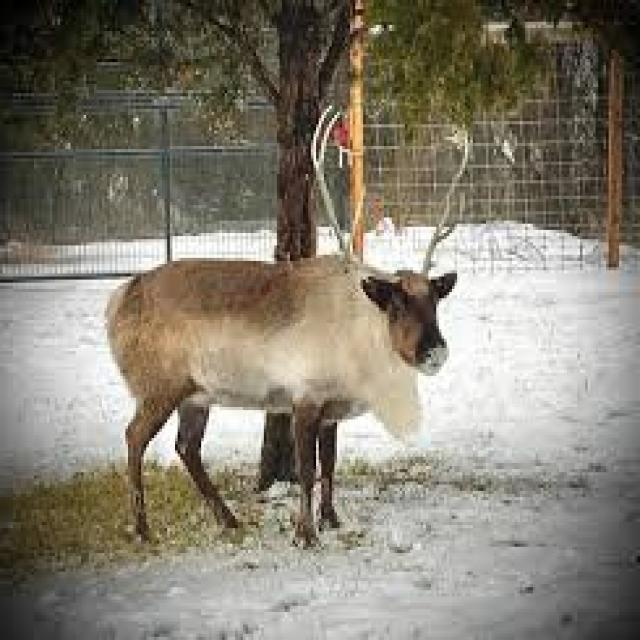reindeer: (110, 106, 473, 541)
